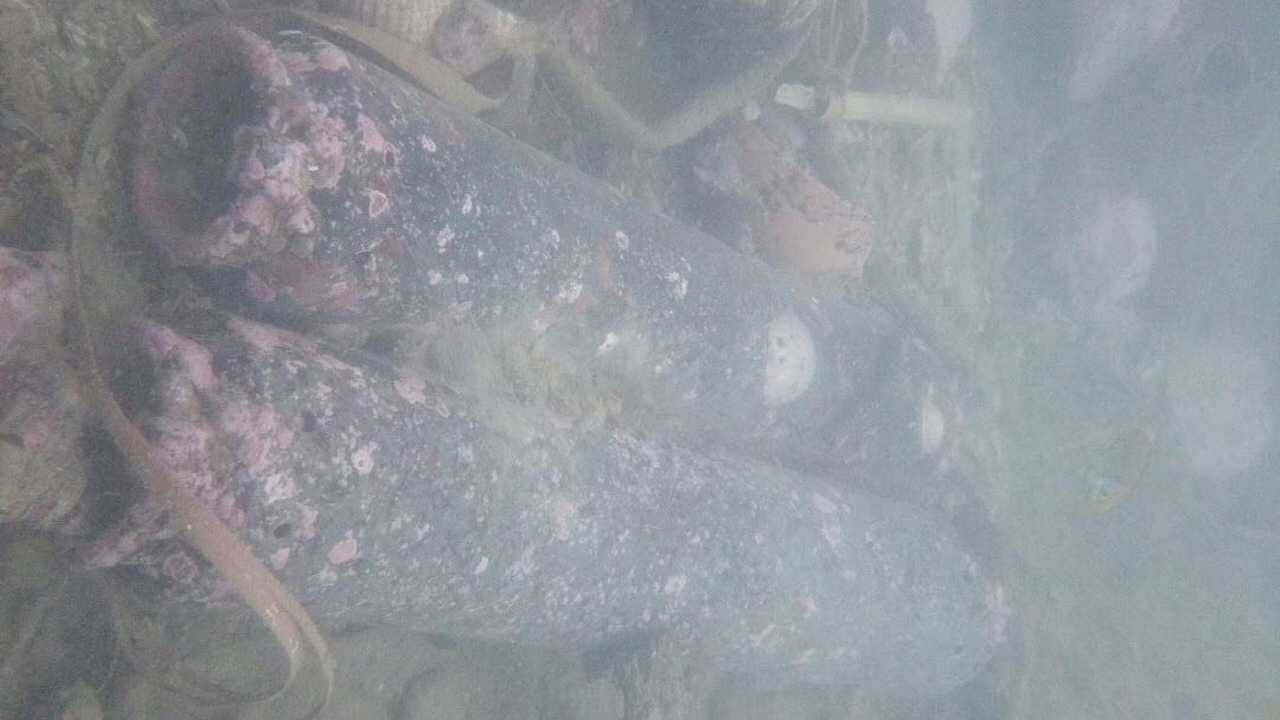eel fish trap: (128, 22, 953, 491), (79, 307, 1007, 695)
